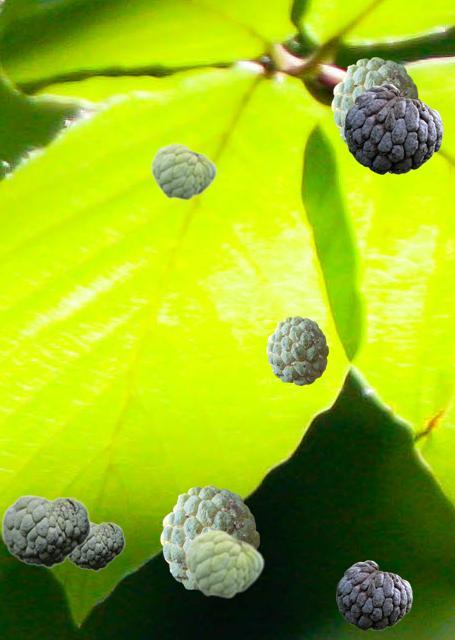atis: (160, 485, 258, 590), (344, 83, 442, 173), (331, 57, 420, 144), (1, 494, 90, 567), (184, 528, 263, 598), (336, 560, 411, 629), (266, 316, 327, 384), (150, 142, 216, 200), (67, 521, 124, 570)
